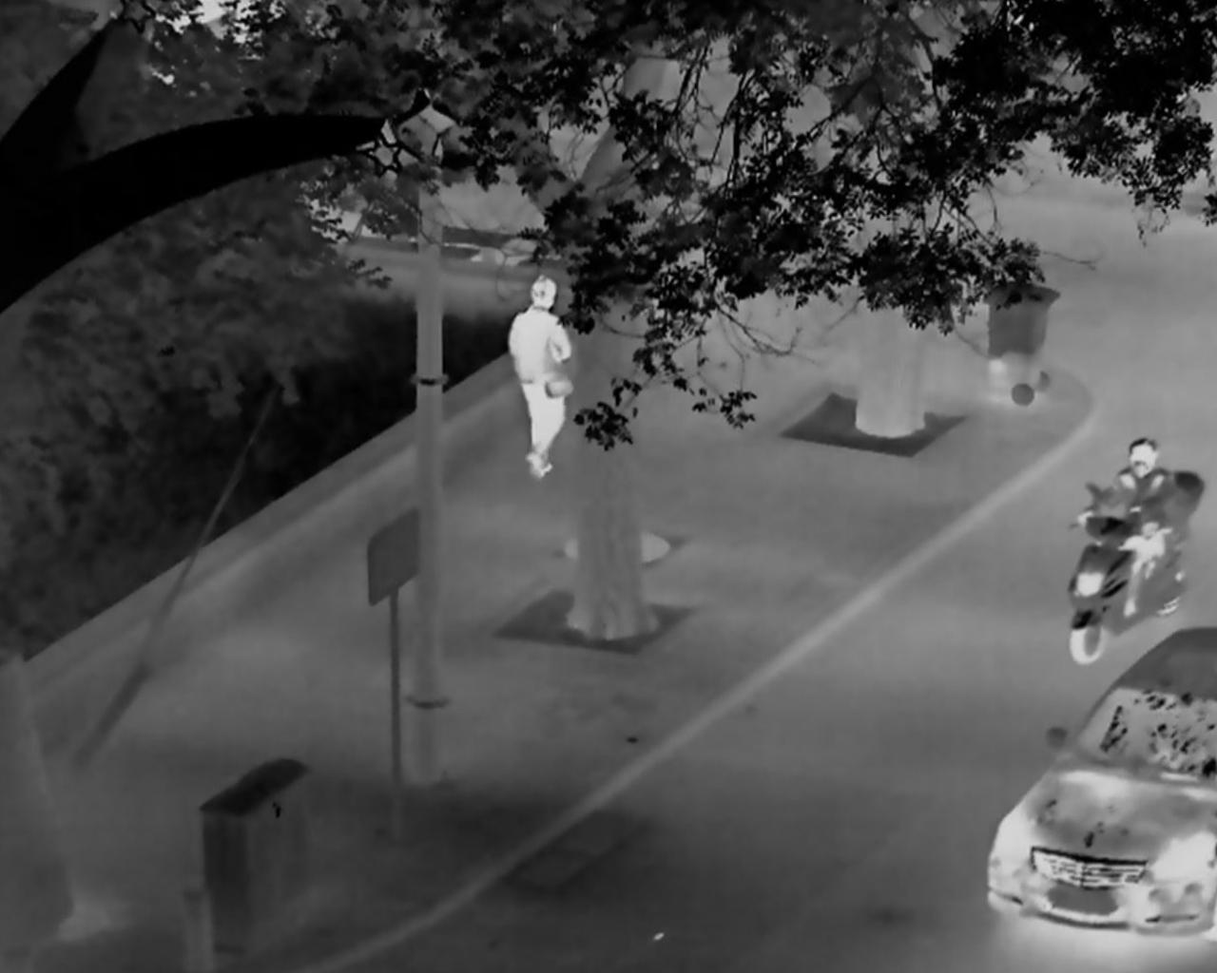person: (1072, 438, 1173, 619), (505, 275, 576, 481)
